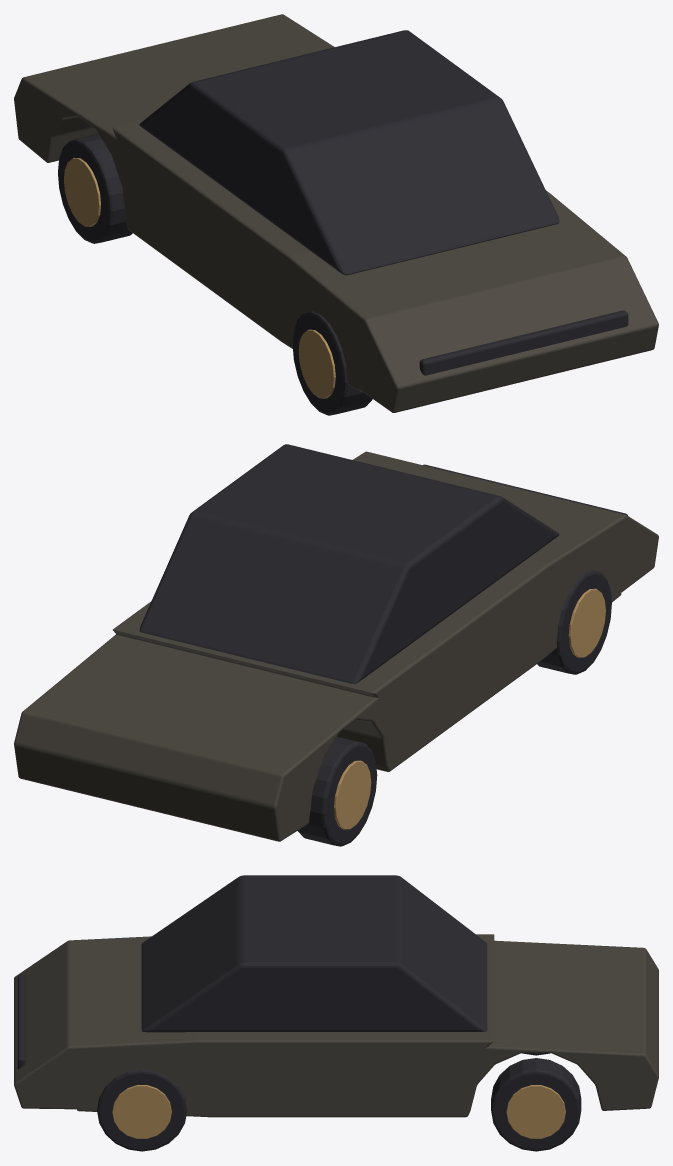
Rendered from car-saloon.glb.
The picture shows the model from 3 angles, top to bottom: view 1: azimuth 30°, elevation 25°; view 2: azimuth 150°, elevation 25°; view 3: azimuth 270°, elevation 25°; orthographic projection. The views are drawn at different scales.
Parts seen in each view (by area): view 1: car_body, car_glass, car_wheel_f_-1, car_tail, car_wheel_r_-1, car_wheel_r_-1_rim_-1, car_wheel_f_-1_rim_-1; view 2: car_body, car_glass, car_wheel_f_-1, car_wheel_r_-1, car_wheel_f_-1_rim_-1, car_wheel_r_-1_rim_-1; view 3: car_body, car_glass, car_wheel_f_1, car_wheel_r_1, car_wheel_f_1_rim_1, car_wheel_r_1_rim_1, car_tail.
Boxes of the visible parts, <box> form: car_body: <box>14,14,658,412</box>; car_glass: <box>139,30,559,275</box>; car_wheel_f_-1: <box>58,134,132,243</box>; car_tail: <box>419,310,628,375</box>; car_wheel_r_-1: <box>292,311,372,415</box>; car_wheel_r_-1_rim_-1: <box>298,329,335,398</box>; car_wheel_f_-1_rim_-1: <box>64,157,100,226</box>; car_body: <box>14,451,658,841</box>; car_glass: <box>139,444,559,683</box>; car_wheel_f_-1: <box>297,736,377,846</box>; car_wheel_r_-1: <box>537,570,611,674</box>; car_wheel_f_-1_rim_-1: <box>334,760,371,829</box>; car_wheel_r_-1_rim_-1: <box>568,588,605,657</box>; car_body: <box>14,934,658,1117</box>; car_glass: <box>141,875,487,1032</box>; car_wheel_f_1: <box>491,1058,581,1151</box>; car_wheel_r_1: <box>97,1069,187,1151</box>; car_wheel_f_1_rim_1: <box>506,1085,565,1138</box>; car_wheel_r_1_rim_1: <box>112,1085,171,1138</box>; car_tail: <box>17,975,25,1069</box>.
Size of the model in its own units: 1.93 by 1.44 by 4.71.
